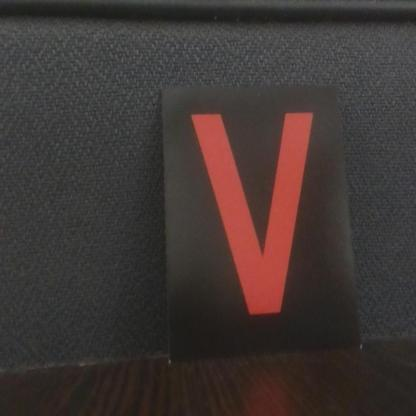v: (160, 84, 362, 351)
